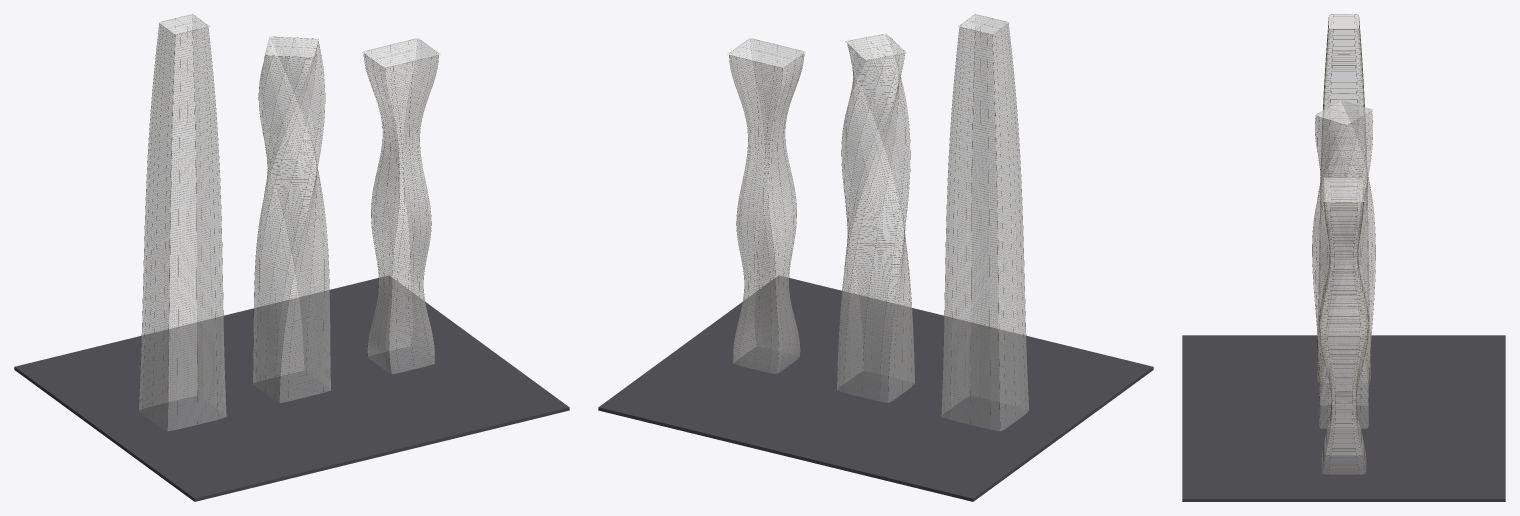
3 renders of one model, left to right at view 1: azimuth 30°, elevation 25°; view 2: azimuth 150°, elevation 25°; view 3: azimuth 270°, elevation 25°, orthographic. The views are drawn at different scales.
Visible parts, largest first — view 1: Cube, SupertallDark, TwistedDark, ParametricDark; view 2: Cube, SupertallDark, TwistedDark, ParametricDark; view 3: Cube, TwistedDark, ParametricDark, SupertallDark.
Boxes of the visible parts, x1,y1,x2,y2 form: Cube: [14, 275, 569, 501]; SupertallDark: [138, 14, 226, 430]; TwistedDark: [252, 36, 331, 402]; ParametricDark: [362, 38, 440, 373]; Cube: [598, 275, 1153, 501]; SupertallDark: [941, 14, 1029, 430]; TwistedDark: [836, 33, 915, 402]; ParametricDark: [727, 38, 805, 373]; Cube: [1182, 335, 1505, 501]; TwistedDark: [1312, 100, 1375, 428]; ParametricDark: [1319, 177, 1368, 474]; SupertallDark: [1317, 14, 1370, 381].
Bounding box in the file's own units: 120 × 120 × 100.
